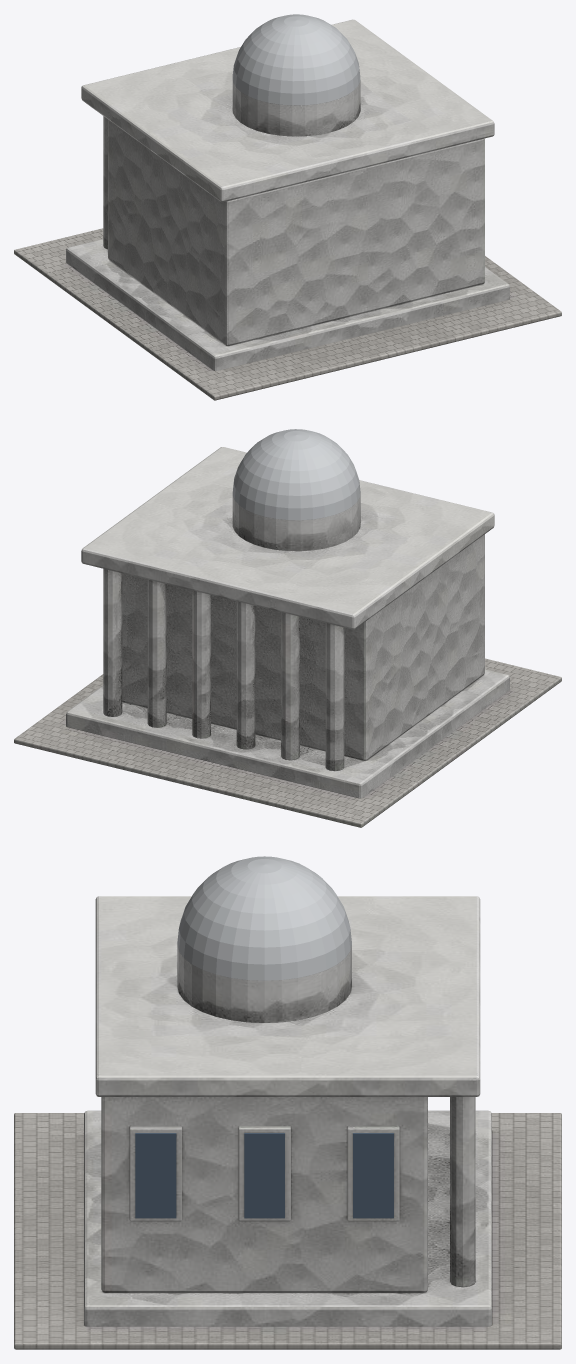
File: museum.glb
3 views of the same model, one above another, from view 1: azimuth 30°, elevation 25°; view 2: azimuth 150°, elevation 25°; view 3: azimuth 270°, elevation 25° (orthographic). The views are drawn at different scales.
Visible parts, largest first — view 1: museum, museum_details; view 2: museum, museum_details; view 3: museum, museum_details.
Part boxes in pixels (box(x1,y1,x2,y2)): museum: box(14, 19, 561, 400); museum_details: box(232, 14, 360, 105); museum: box(14, 447, 561, 827); museum_details: box(232, 429, 360, 520); museum: box(14, 896, 561, 1349); museum_details: box(135, 856, 393, 1218).
Bounding box in the file's own units: 0.94 × 0.7 × 0.94.
3 materials, 1 textured.
